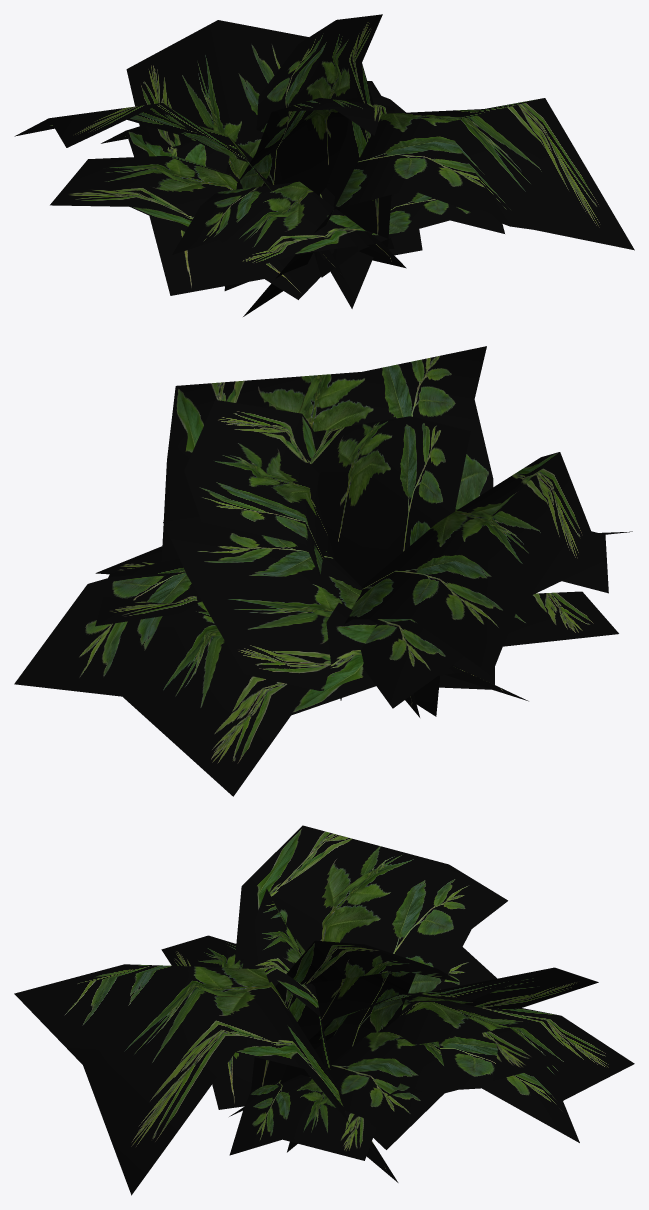
Rendered from bush.fbx.
The picture shows the model from 3 angles, top to bottom: view 1: azimuth 30°, elevation 25°; view 2: azimuth 150°, elevation 25°; view 3: azimuth 270°, elevation 25°; orthographic projection. The views are drawn at different scales.
Visible parts, largest first — view 1: bush_01; view 2: bush_01; view 3: bush_01.
Part boxes in pixels (<box>): bush_01: <box>14,14,634,316</box>; bush_01: <box>14,346,632,796</box>; bush_01: <box>14,825,634,1195</box>.
Bounding box in the file's own units: 11.06 × 5.13 × 12.66.
Materials: 1 (1 with a texture image).
